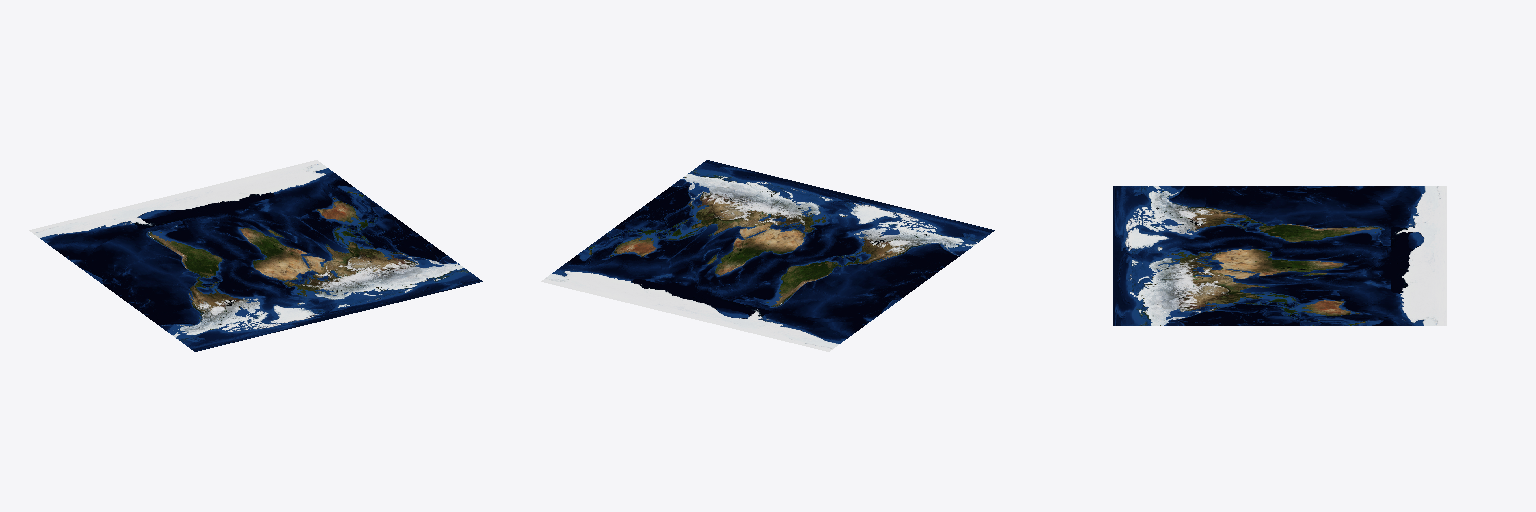
The picture shows the model from 3 angles: view 1: azimuth 30°, elevation 25°; view 2: azimuth 150°, elevation 25°; view 3: azimuth 270°, elevation 25°; orthographic projection.
Visible parts, largest first — view 1: Plane; view 2: Plane; view 3: Plane.
Part boxes in pixels (x1,y1,x2,y2): Plane: (29, 160, 482, 351); Plane: (541, 160, 994, 351); Plane: (1113, 186, 1446, 325).
Bounding box in the file's own units: 2 × 0 × 2.
1 materials, 1 textured.